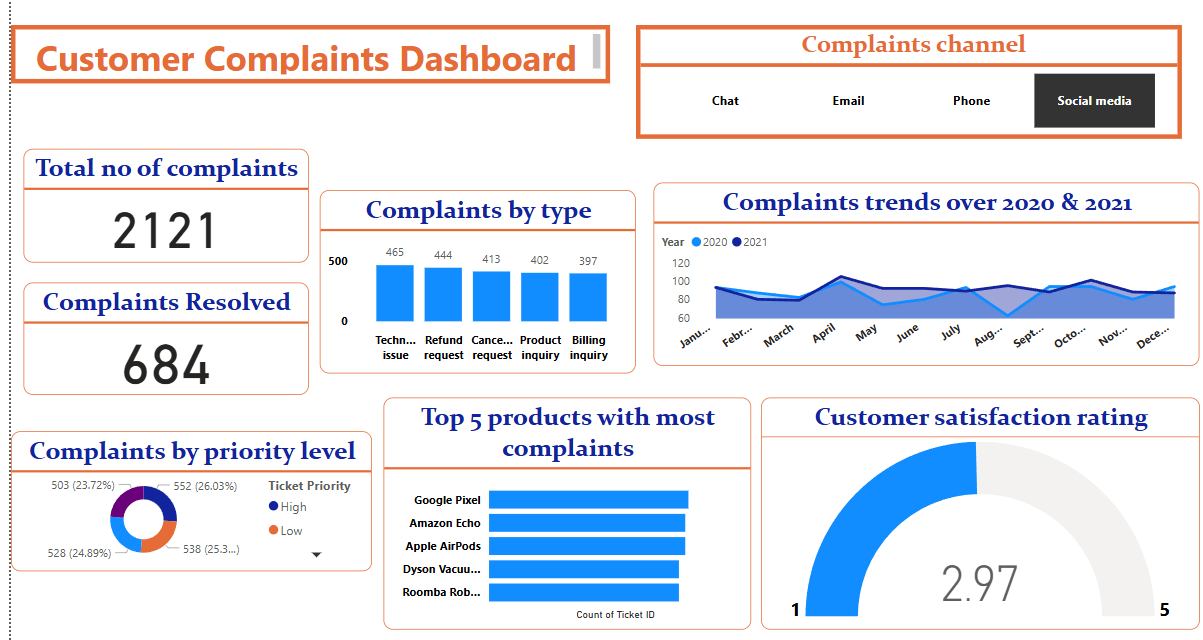

What the dashboard file says about the page in this screenshot:
{"tool":"powerbi","page":{"name":"Page 1","canvas":[1280,720],"ordinal":0},"visuals":[{"type":"card","title":"Total no of complaints","fields":{"Values":["Count(customer_support_tickets.Ticket ID)"]},"box":[12.8,156,305.6,121.5],"z":0},{"type":"card","title":"Complaints Resolved","fields":{"Values":["Count(customer_support_tickets.Ticket ID)"]},"box":[12.8,290.2,305.6,120.2],"z":1000},{"type":"areaChart","title":"Complaints trends over 2020 & 2021","fields":{"Y":["CountNonNull(customer_support_tickets.Ticket ID)"],"Category":["customer_support_tickets.Date of Purchase.Variation.Date Hierarchy.Month"],"Series":["customer_support_tickets.Date of Purchase.Variation.Date Hierarchy.Year"]},"box":[695.5,163.6,584.2,196.9],"z":2000},{"type":"columnChart","title":"Complaints by type","fields":{"Y":["CountNonNull(customer_support_tickets.Ticket ID)"],"Category":["customer_support_tickets.Ticket Type"]},"box":[373.3,163.6,304.3,196.9],"z":3000},{"type":"donutChart","title":"Complaints by priority level","fields":{"Category":["customer_support_tickets.Ticket Priority"],"Y":["CountNonNull(customer_support_tickets.Ticket ID)"]},"box":[0,446.2,386.1,149.6],"z":4000},{"type":"barChart","title":"Top 5 products with most complaints ","fields":{"Category":["customer_support_tickets.Product Purchased"],"Y":["CountNonNull(customer_support_tickets.Ticket ID)"]},"box":[397.6,404,386.1,233.9],"z":5000},{"type":"gauge","title":"Customer satisfaction rating","fields":{"Y":["Avg(customer_support_tickets.Customer Satisfaction Rating)"],"MinValue":["Min(customer_support_tickets.Customer Satisfaction Rating)1"],"MaxValue":["Max(customer_support_tickets.Customer Satisfaction Rating)2"]},"box":[810.5,389.9,469.2,248],"z":6000}]}

Visuals, with their boxes on the page's 1280x720 design canvas (x1, y1, x2, y2). These are canvas units, not pixel positions in the 1203x640 screenshot, which may show the page scaled, cropped or inside an application window:
"Total no of complaints" card: Rect(13, 156, 318, 278)
"Complaints Resolved" card: Rect(13, 290, 318, 410)
"Complaints trends over 2020 & 2021" areaChart: Rect(696, 164, 1280, 360)
"Complaints by type" columnChart: Rect(373, 164, 678, 360)
"Complaints by priority level" donutChart: Rect(0, 446, 386, 596)
"Top 5 products with most complaints " barChart: Rect(398, 404, 784, 638)
"Customer satisfaction rating" gauge: Rect(810, 390, 1280, 638)
